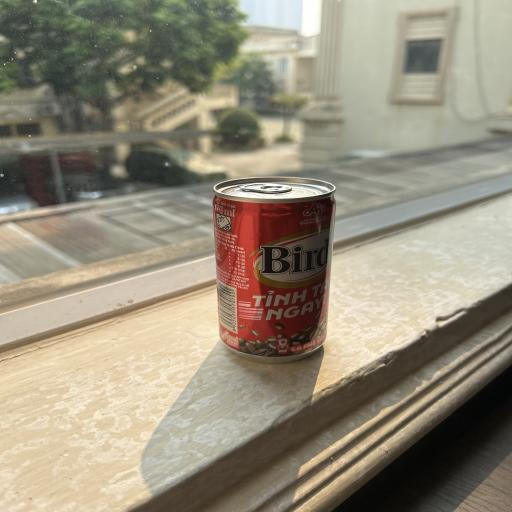birdy: (207, 172, 336, 362)
